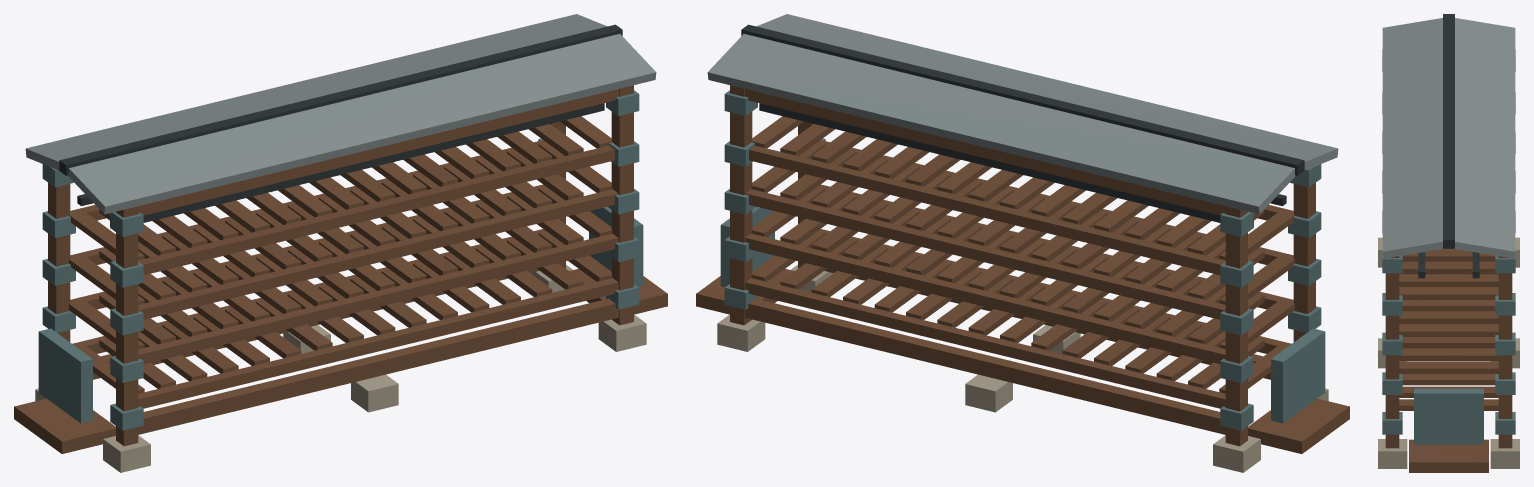
Rendered from Drying-Rack.glb.
3 views of the same model, side by side, from view 1: azimuth 30°, elevation 25°; view 2: azimuth 150°, elevation 25°; view 3: azimuth 270°, elevation 25° (orthographic). The views are drawn at different scales.
Parts seen in each view (by area): view 1: drying-rack-static-drying-rack-warm-timber-mat, drying-rack-static-drying-rack-pale-galvanized-mat, drying-rack-static-drying-rack-blue-grey-connector-mat, drying-rack-static-drying-rack-dark-iron-mat, drying-rack-static-drying-rack-warm-stone-anchor-mat; view 2: drying-rack-static-drying-rack-warm-timber-mat, drying-rack-static-drying-rack-pale-galvanized-mat, drying-rack-static-drying-rack-blue-grey-connector-mat, drying-rack-static-drying-rack-dark-iron-mat, drying-rack-static-drying-rack-warm-stone-anchor-mat; view 3: drying-rack-static-drying-rack-pale-galvanized-mat, drying-rack-static-drying-rack-warm-timber-mat, drying-rack-static-drying-rack-blue-grey-connector-mat, drying-rack-static-drying-rack-dark-iron-mat, drying-rack-static-drying-rack-warm-stone-anchor-mat.
Boxes of the visible parts, x1=… form: drying-rack-static-drying-rack-warm-timber-mat: x1=14, y1=85, x2=667, y2=453; drying-rack-static-drying-rack-pale-galvanized-mat: x1=25, y1=14, x2=656, y2=214; drying-rack-static-drying-rack-blue-grey-connector-mat: x1=38, y1=90, x2=643, y2=430; drying-rack-static-drying-rack-dark-iron-mat: x1=59, y1=24, x2=622, y2=226; drying-rack-static-drying-rack-warm-stone-anchor-mat: x1=35, y1=265, x2=646, y2=472; drying-rack-static-drying-rack-warm-timber-mat: x1=696, y1=85, x2=1349, y2=453; drying-rack-static-drying-rack-pale-galvanized-mat: x1=707, y1=14, x2=1338, y2=214; drying-rack-static-drying-rack-blue-grey-connector-mat: x1=720, y1=90, x2=1325, y2=430; drying-rack-static-drying-rack-dark-iron-mat: x1=741, y1=24, x2=1304, y2=226; drying-rack-static-drying-rack-warm-stone-anchor-mat: x1=717, y1=265, x2=1328, y2=472; drying-rack-static-drying-rack-pale-galvanized-mat: x1=1382, y1=18, x2=1515, y2=258; drying-rack-static-drying-rack-warm-timber-mat: x1=1385, y1=248, x2=1512, y2=472; drying-rack-static-drying-rack-blue-grey-connector-mat: x1=1382, y1=49, x2=1515, y2=444; drying-rack-static-drying-rack-dark-iron-mat: x1=1418, y1=14, x2=1479, y2=278; drying-rack-static-drying-rack-warm-stone-anchor-mat: x1=1378, y1=237, x2=1519, y2=468.
Bounding box in the file's own units: 5.99 × 2.67 × 1.46.
